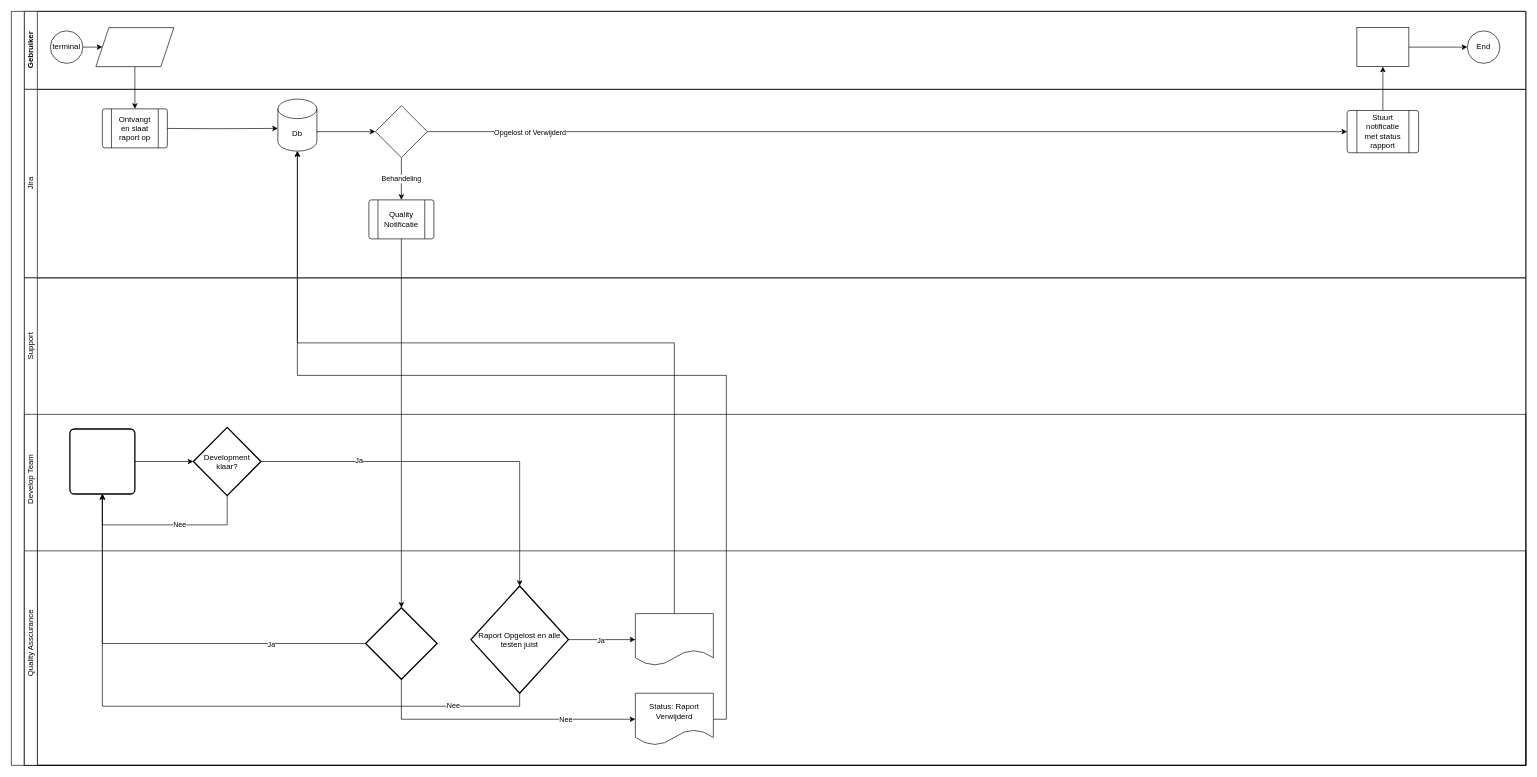
This 1537x777 diagram has some shape labels left out. The centre of each missing label's shape, as x and y in pixels:
"Development process" goes at point 102,461.
"Is dit een nuttig rapport" goes at point 401,643.
"ontvangt bericht met informatie" goes at point 1382,47.
"status" goes at point 401,131.
"Status: Raport Opgelost" goes at point 674,639.
"Vindt en rapporteert bug" goes at point 134,47.
